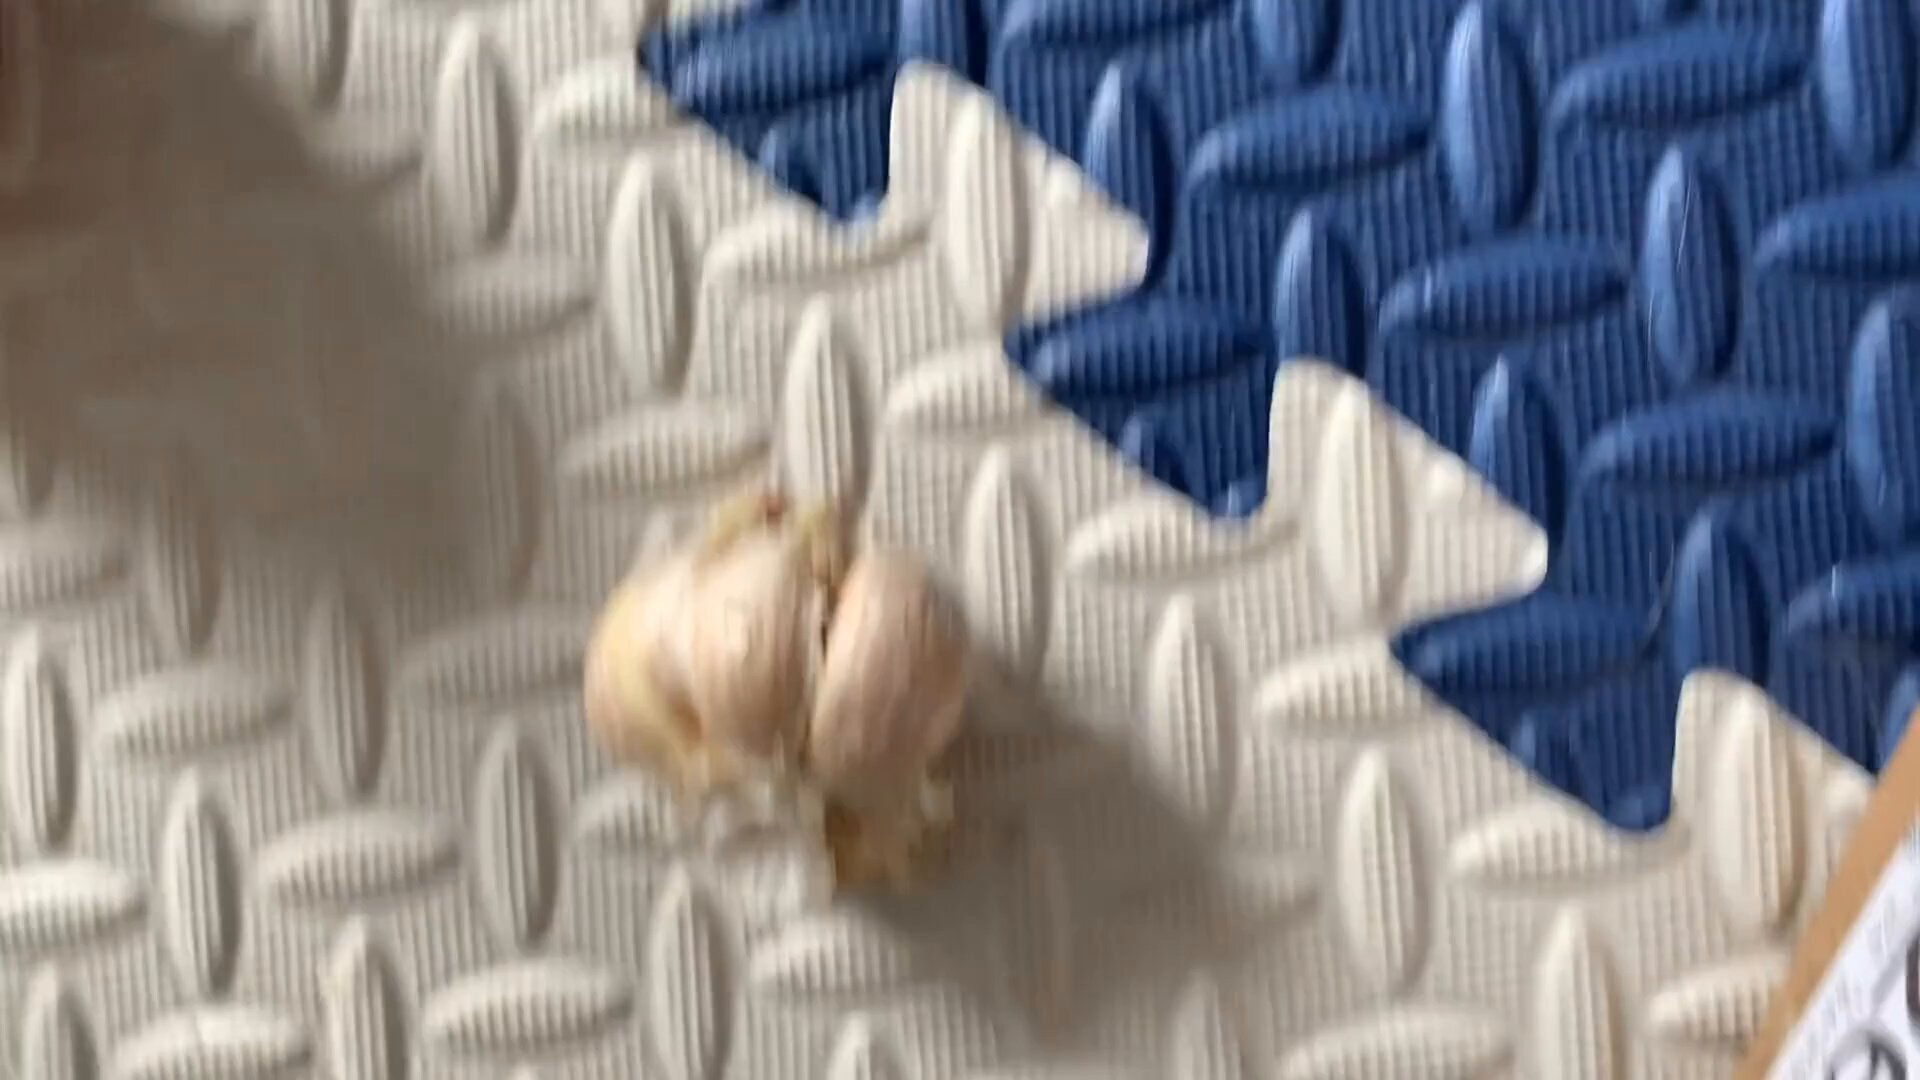不可回收蔬菜: (571, 477, 1029, 915)
可回收纸制品: (572, 476, 1029, 906)
